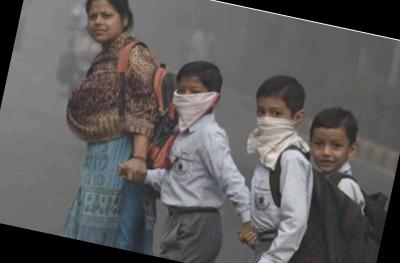with_mask: (168, 79, 210, 120), (252, 100, 292, 141)
without_mask: (304, 130, 352, 177), (83, 4, 123, 47)
